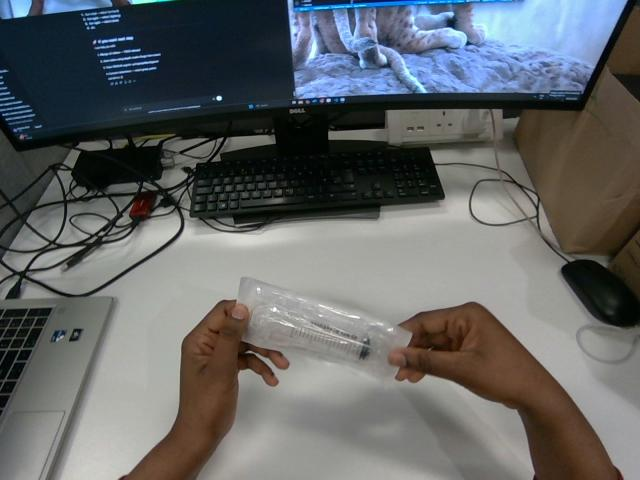syringe: (237, 277, 411, 379)
